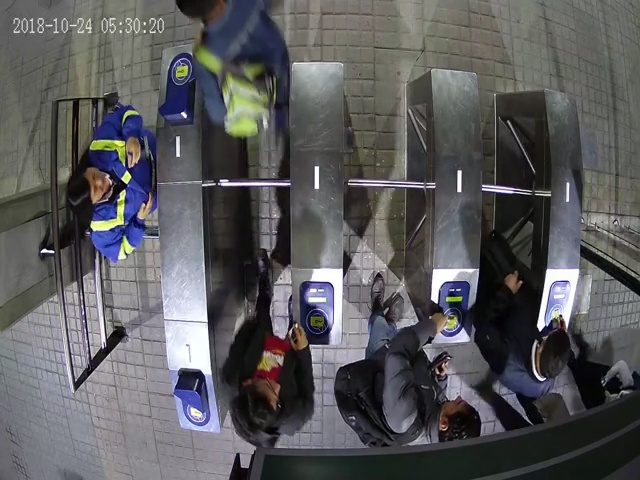Chaleco_azul: (67, 105, 157, 262)
